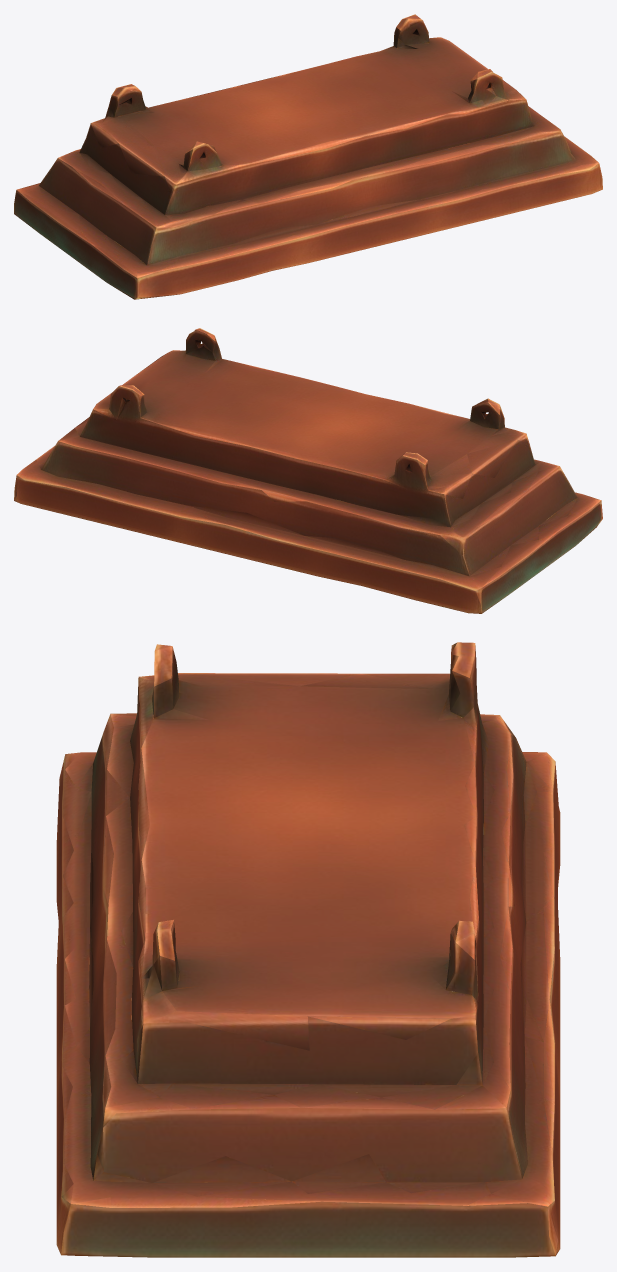
The model's file is 13-under-canopy-marquee.glb.
The picture shows the model from 3 angles, top to bottom: view 1: azimuth 30°, elevation 25°; view 2: azimuth 150°, elevation 25°; view 3: azimuth 270°, elevation 25°; orthographic projection. The views are drawn at different scales.
Parts seen in each view (by area): view 1: SM_UnderCanopyMarquee; view 2: SM_UnderCanopyMarquee; view 3: SM_UnderCanopyMarquee.
Boxes of the visible parts, x1,y1,x2,y2 form: SM_UnderCanopyMarquee: [14, 14, 602, 299]; SM_UnderCanopyMarquee: [14, 328, 602, 613]; SM_UnderCanopyMarquee: [56, 642, 560, 1257].
Size of the model in its own units: 1.75 by 0.4745 by 0.815.
Materials: 1 (1 with a texture image).
